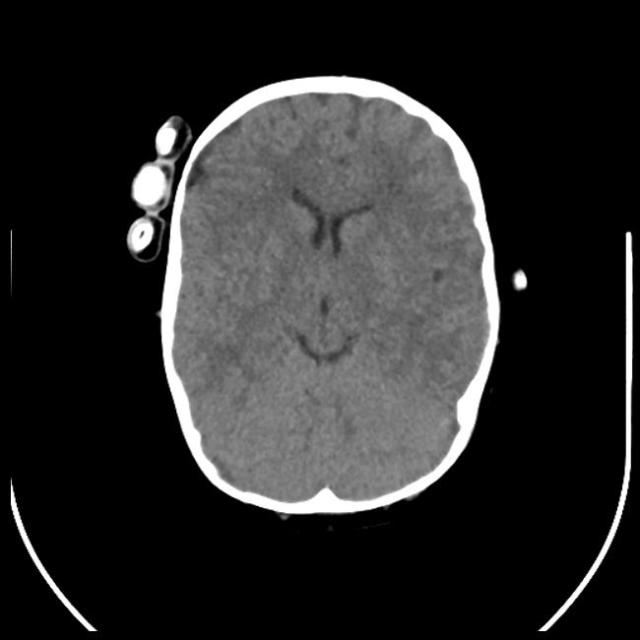lesion: (179, 328, 263, 481)
